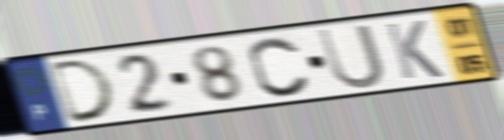2: (115, 51, 177, 117)
8: (188, 43, 245, 103)
C: (246, 34, 314, 99)
D: (47, 56, 119, 126)
K: (382, 18, 447, 82)
U: (314, 21, 388, 92)
